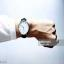watch: (17, 18, 32, 39)
